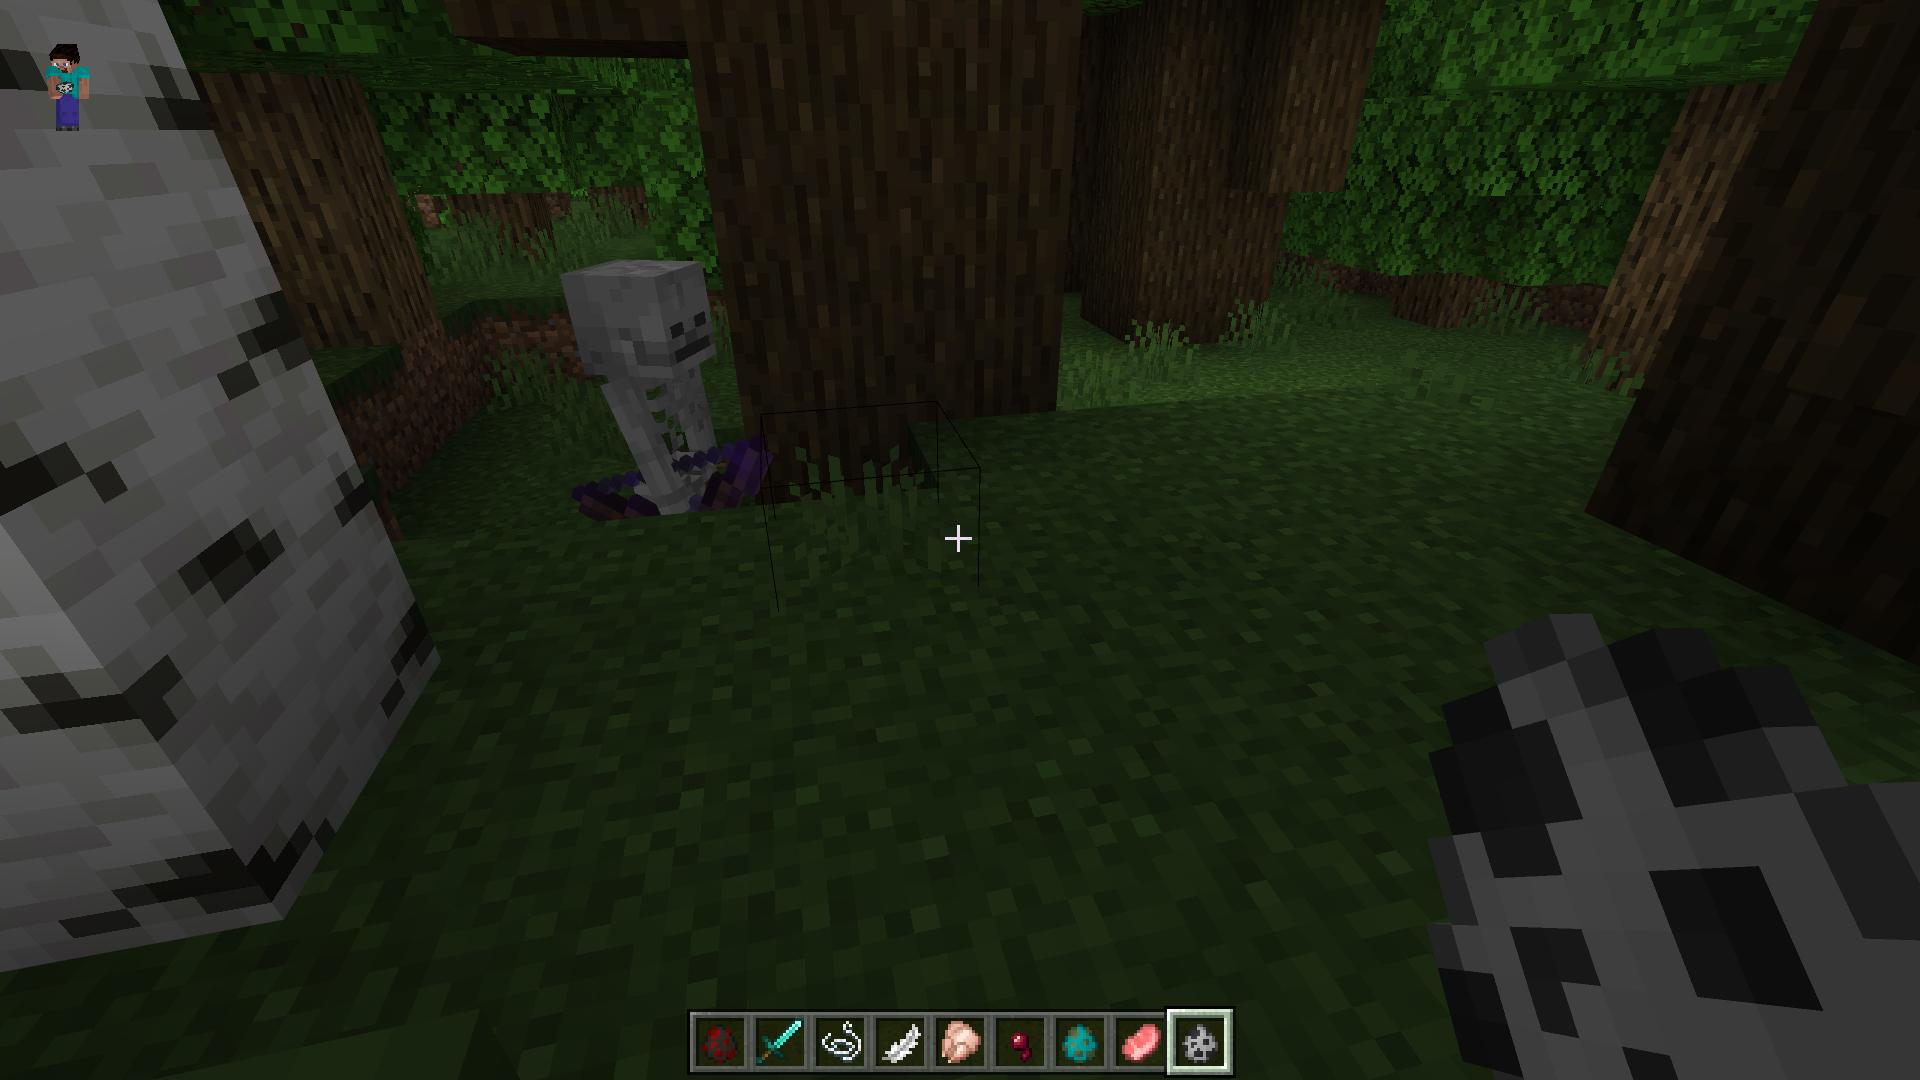skeleton: (558, 255, 773, 526)
